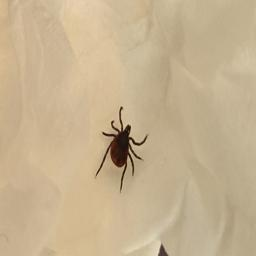Ixodes scapularis: (94, 107, 148, 192)
